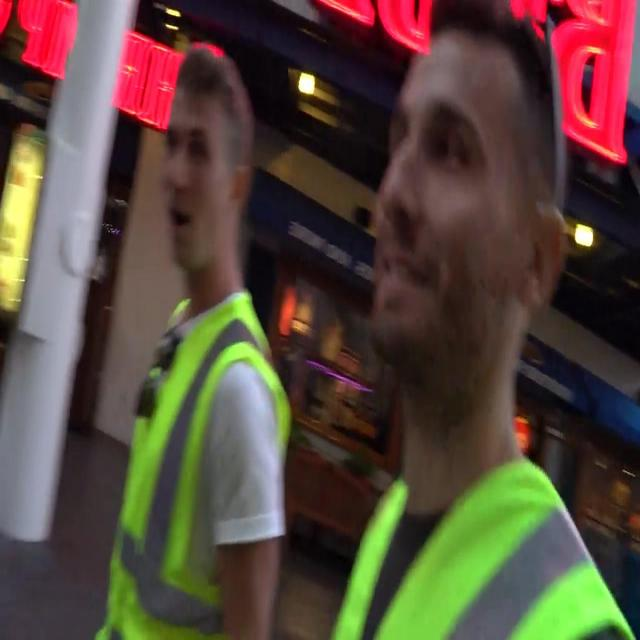Reflective-Jacket: (88, 286, 306, 640), (327, 448, 640, 640)
